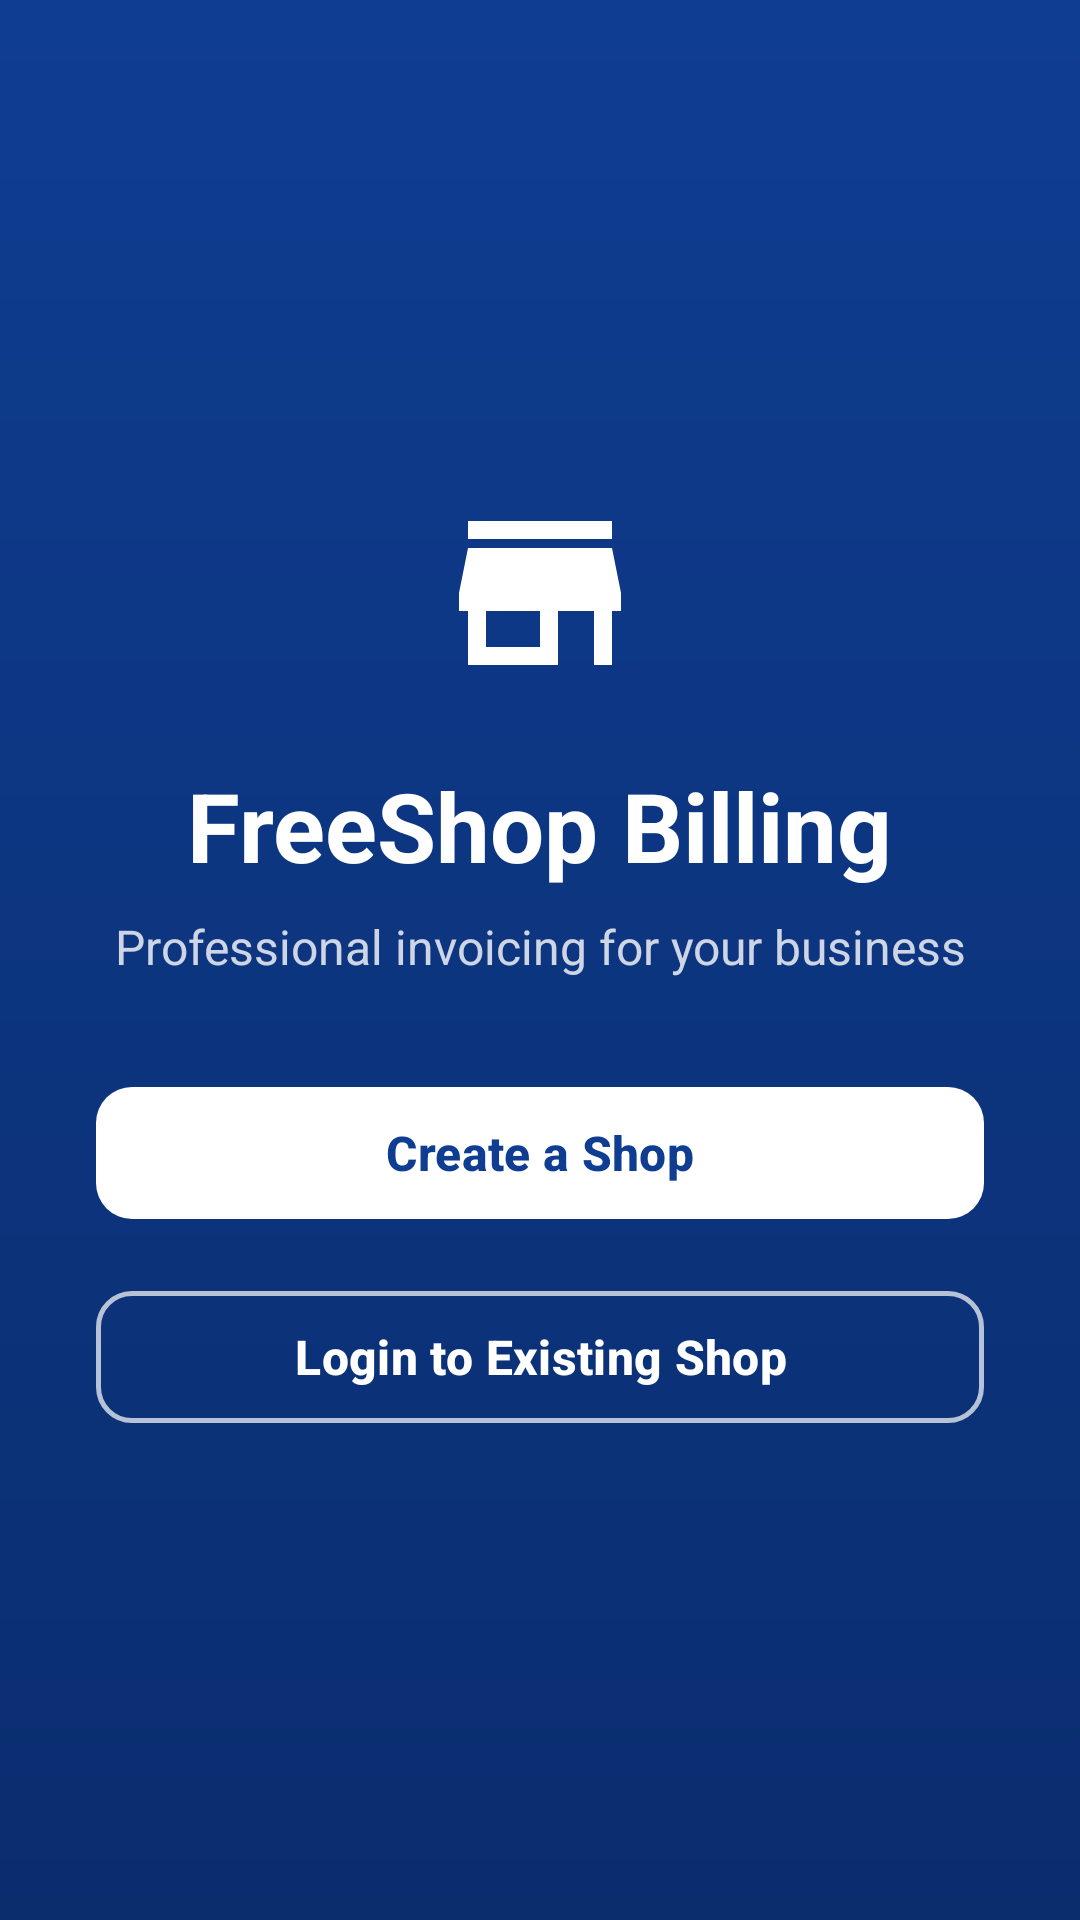

Screen size 1080×1920. Icon name, then its center in pixels as (x=x, y=y):
store: (x=540, y=593)
